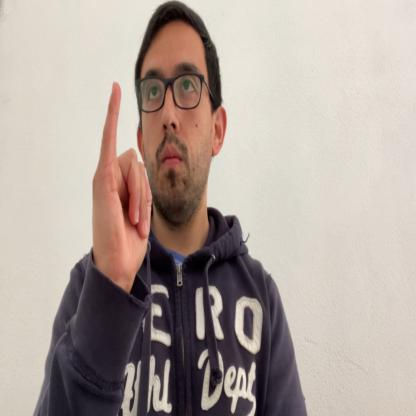I: (91, 80, 152, 290)
